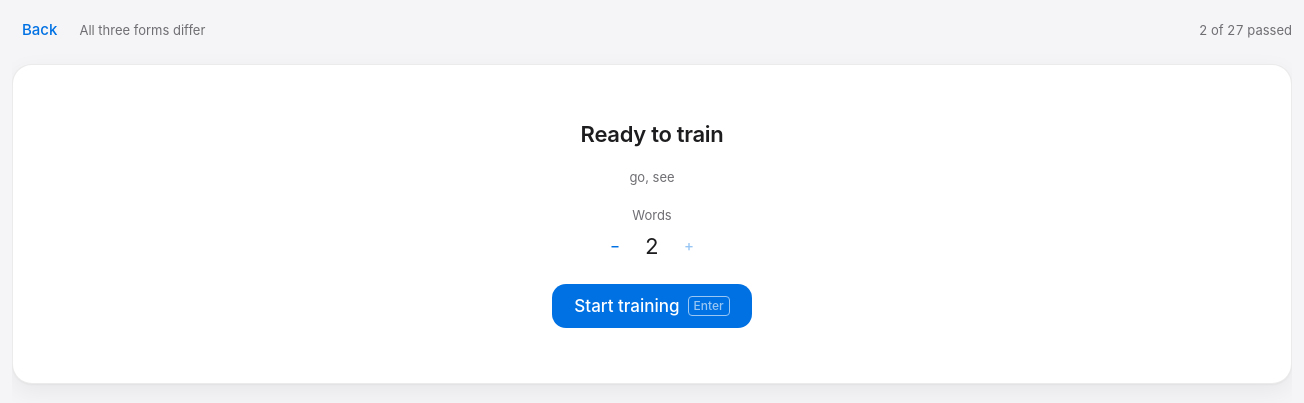
Test: VerbDrillScreen › takes a right pick straight to the next card
Click the button with class "start-train" at (652, 306), box [552,284,752,328]
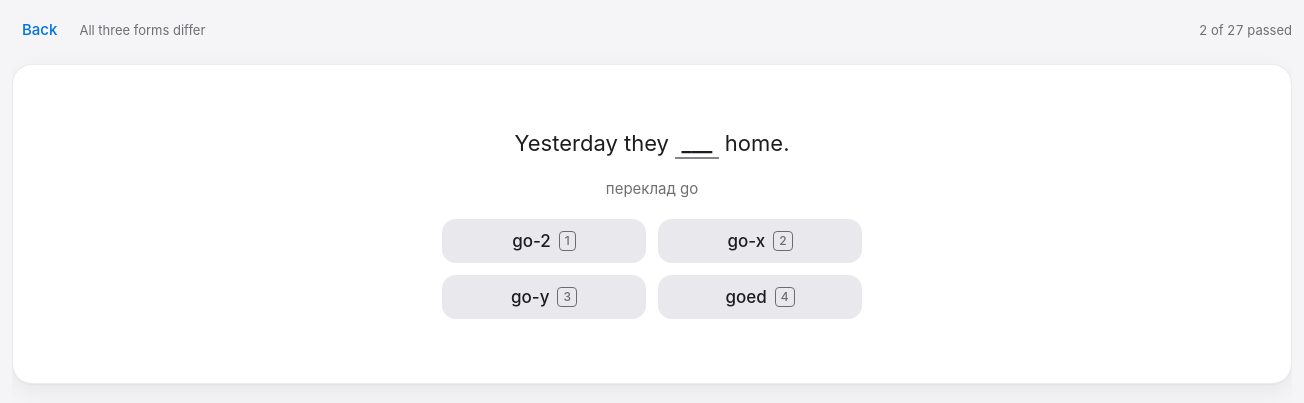
Click the button "go-2 1" at (544, 241), box [442,219,646,263]
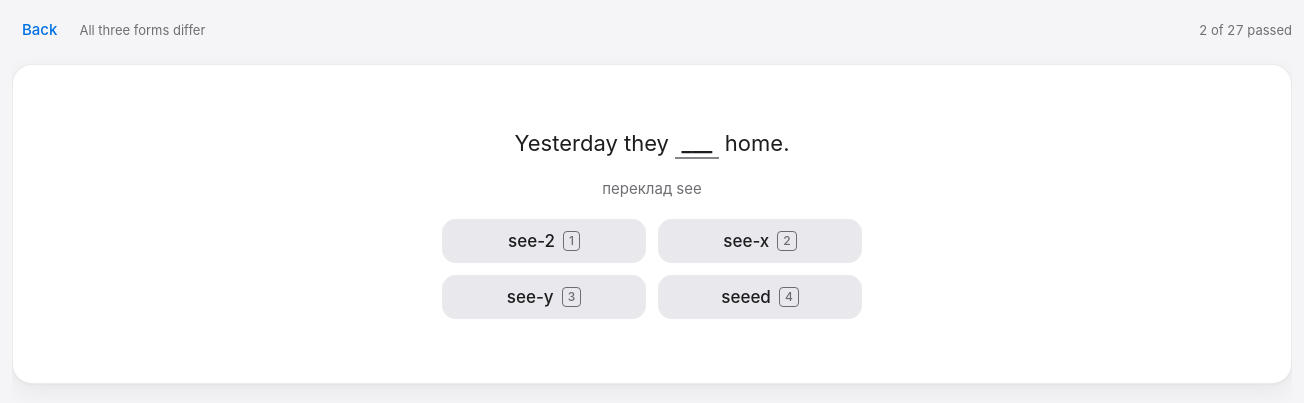
Check: the text "переклад see" is shown, box [602,179,702,199]
